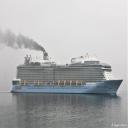cruises: (11, 51, 125, 98)
